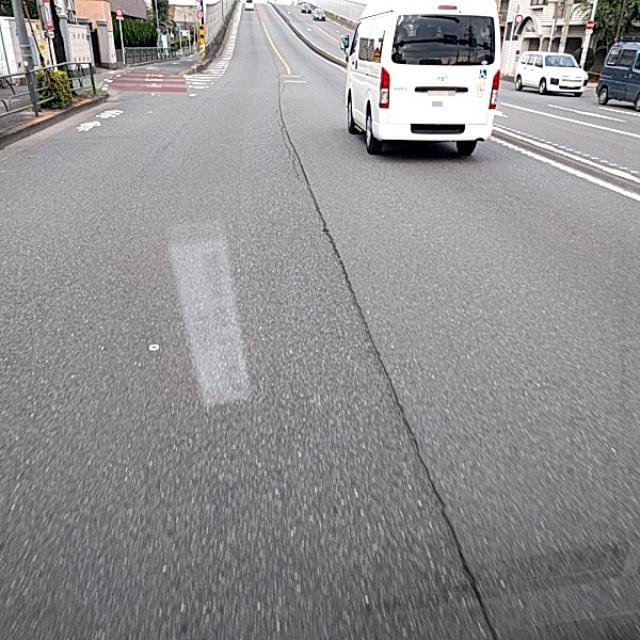pothole: (312, 305, 435, 436)
